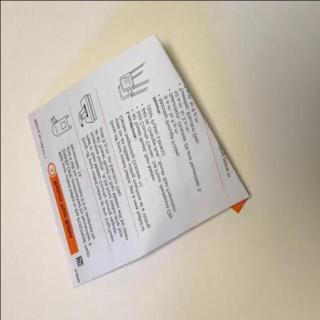Anorganik: (24, 32, 254, 291)
